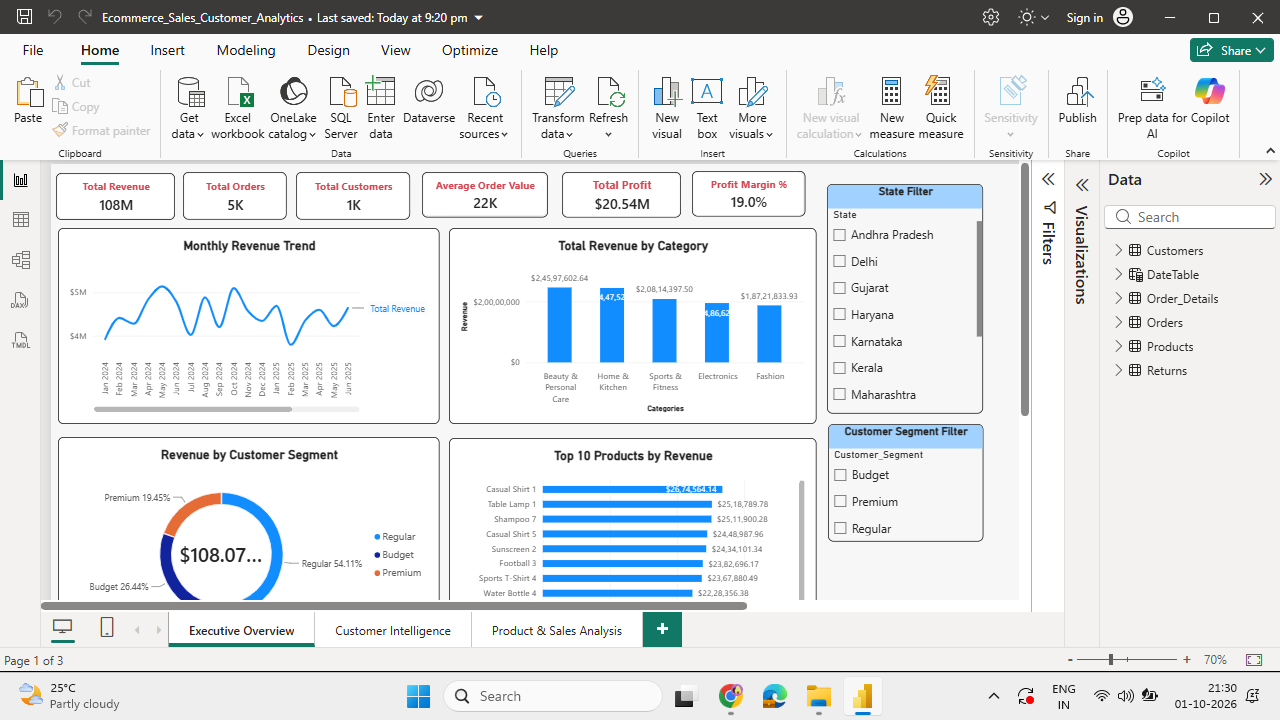

What the dashboard file says about the page in this screenshot:
{"tool":"powerbi","page":{"name":"Executive Overview","canvas":[1920,1080],"ordinal":0},"visuals":[{"type":"cardVisual","fields":{"Data":["Order_Details.Total Revenue"]},"box":[6.7,13.3,170,66.7],"z":0},{"type":"cardVisual","fields":{"Data":["Orders.Total Orders"]},"box":[188.3,11.7,148.3,68.3],"z":1000},{"type":"cardVisual","fields":{"Data":["Customers.Total Customers"]},"box":[350,11.7,163.3,68.3],"z":2000},{"type":"cardVisual","fields":{"Data":["Orders.Average Order Value"]},"box":[530,11.7,180,64.5],"z":3000},{"type":"cardVisual","fields":{"Data":["Order_Details.Total Profit"]},"box":[730,11.7,170,65],"z":4000},{"type":"cardVisual","fields":{"Data":["Order_Details.Profit Margin %"]},"box":[915,10,161.7,65],"z":5000},{"type":"lineChart","title":"Monthly Revenue Trend","fields":{"Category":["DateTable.Month Year"],"Y":["Order_Details.Total Revenue"]},"box":[10,91.7,545,280],"z":6000},{"type":"clusteredColumnChart","title":"Total Revenue by Category","fields":{"Category":["Products.Category"],"Y":["Order_Details.Total Revenue"]},"box":[568.3,91.7,525,280],"z":7000},{"type":"donutChart","title":"Revenue by Customer Segment","fields":{"Category":["Customers.Customer_Segment"],"Y":["Order_Details.Total Revenue"]},"box":[10,390,545,300],"z":8000},{"type":"clusteredBarChart","title":"Top 10 Products by Revenue","fields":{"Category":["Products.Product_Name"],"Y":["Order_Details.Total Revenue"]},"box":[568.3,391.7,525,298],"z":9000},{"type":"slicer","title":"State Filter","fields":{"Values":["Customers.State"]},"box":[1108.3,28.3,223.3,328.3],"z":10000},{"type":"slicer","title":"Customer Segment Filter","fields":{"Values":["Customers.Customer_Segment"]},"box":[1110,371.7,221.7,168.3],"z":11000}]}

Visuals, with their boxes on the page's 1920x1080 design canvas (x1, y1, x2, y2). These are canvas units, not pixel positions in the 1280x720 screenshot, which may show the page scaled, cropped or inside an application window:
cardVisual - Order_Details.Total Revenue: (7,13,177,80)
cardVisual - Orders.Total Orders: (188,12,337,80)
cardVisual - Customers.Total Customers: (350,12,513,80)
cardVisual - Orders.Average Order Value: (530,12,710,76)
cardVisual - Order_Details.Total Profit: (730,12,900,77)
cardVisual - Order_Details.Profit Margin %: (915,10,1077,75)
"Monthly Revenue Trend" lineChart: (10,92,555,372)
"Total Revenue by Category" clusteredColumnChart: (568,92,1093,372)
"Revenue by Customer Segment" donutChart: (10,390,555,690)
"Top 10 Products by Revenue" clusteredBarChart: (568,392,1093,690)
"State Filter" slicer: (1108,28,1332,357)
"Customer Segment Filter" slicer: (1110,372,1332,540)
